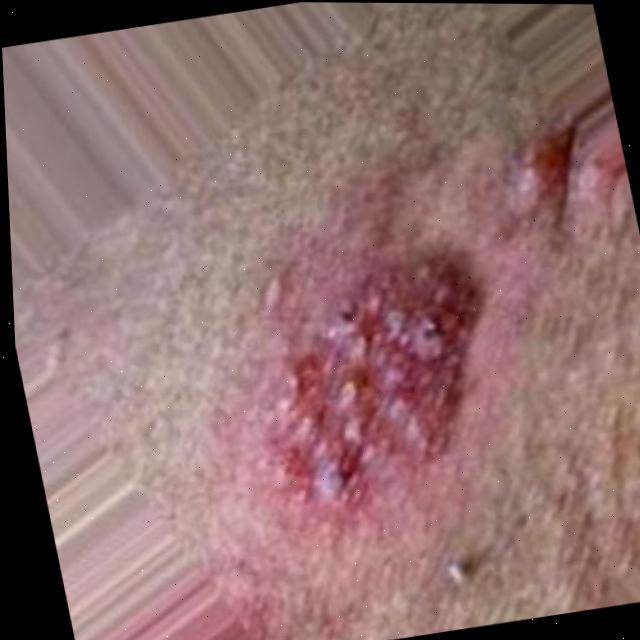Shingles: (236, 253, 510, 520), (496, 135, 573, 208)
